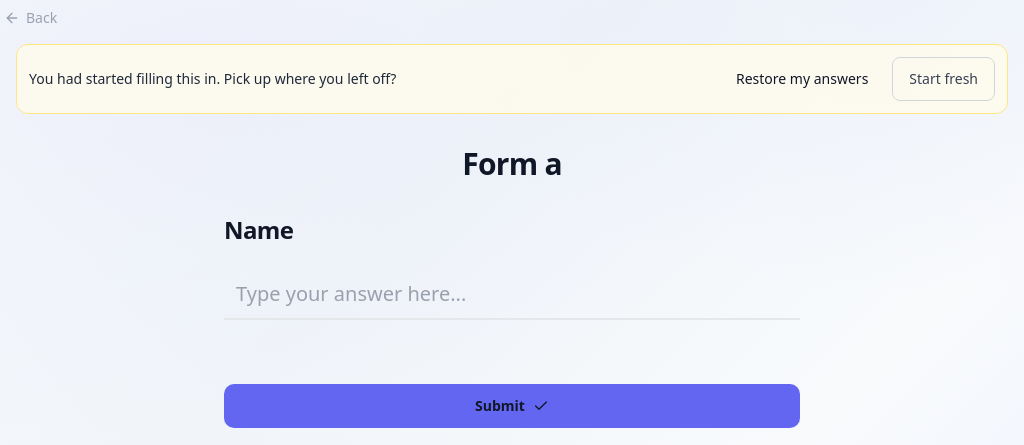
Scenario: app form visit state › a draft from before the key named its owner › is offered once, from under the old key, and then kept under the new one
Click the button "Restore my answers": (802,79) [720,57,884,101]
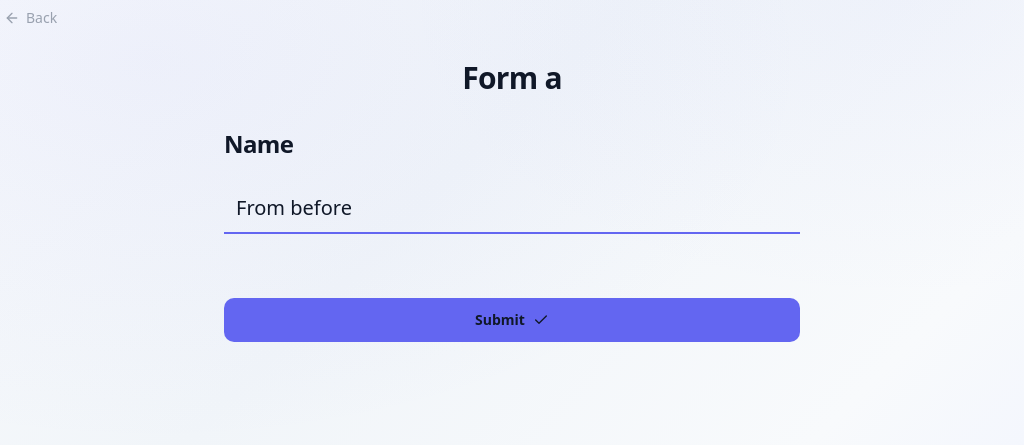
Now the field named "Name" holds "From before", box [224,184,800,234]
